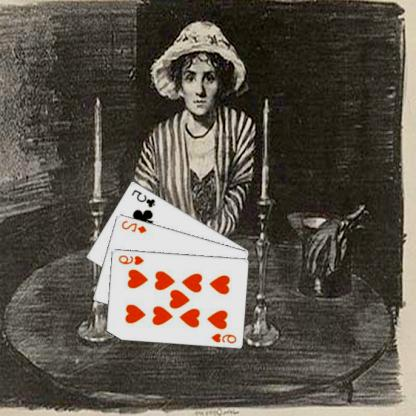2D: (121, 218, 150, 234)
5C: (130, 186, 158, 209)
9H: (117, 252, 147, 266), (210, 330, 239, 344)
